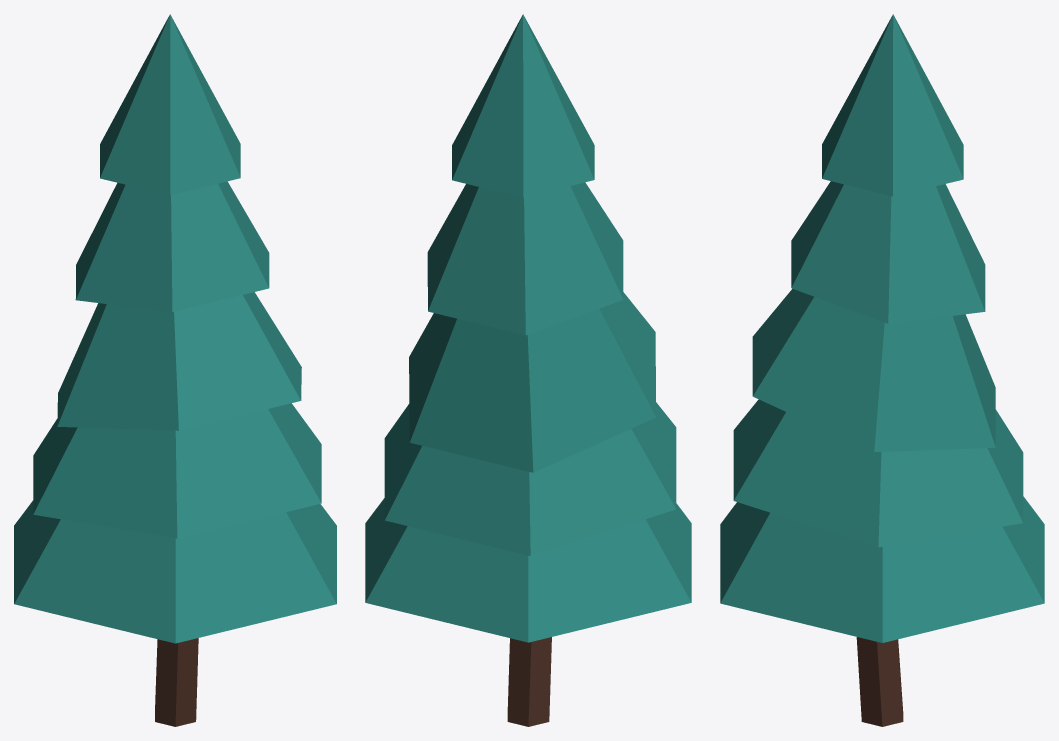
The model's file is Tree_Type7_4.fbx.
The picture shows the model from 3 angles, left to right: view 1: azimuth 30°, elevation 25°; view 2: azimuth 150°, elevation 25°; view 3: azimuth 270°, elevation 25°; orthographic projection.
Parts seen in each view (by area): view 1: Tree_Type7_4; view 2: Tree_Type7_4; view 3: Tree_Type7_4.
Boxes of the visible parts, x1,y1,x2,y2 form: Tree_Type7_4: (14, 14, 336, 726); Tree_Type7_4: (365, 14, 691, 726); Tree_Type7_4: (720, 14, 1044, 726).
Bounding box in the file's own units: 235 × 486 × 203.
